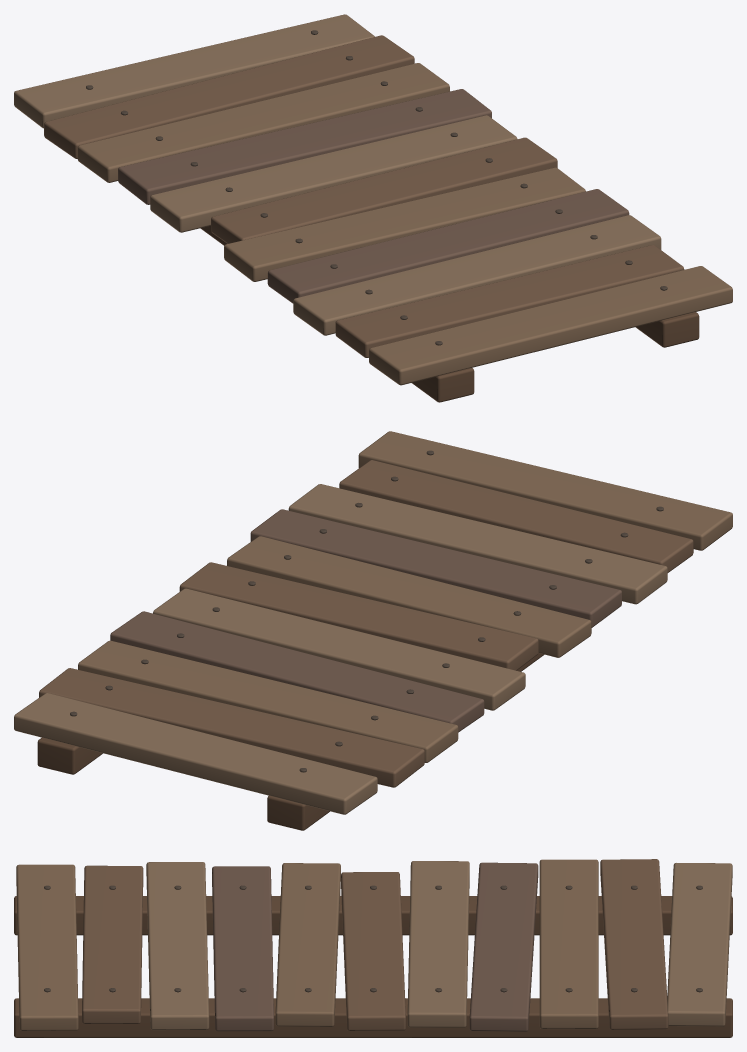
The model's file is TrenchDuckboard.fbx.
3 renders of one model, top to bottom at view 1: azimuth 30°, elevation 25°; view 2: azimuth 150°, elevation 25°; view 3: azimuth 270°, elevation 25°, orthographic. The views are drawn at different scales.
Visible parts, largest first — view 1: TrenchDuckboard; view 2: TrenchDuckboard; view 3: TrenchDuckboard.
Part boxes in pixels (x1,y1,x2,y2): TrenchDuckboard: (14,14,732,402); TrenchDuckboard: (14,431,732,830); TrenchDuckboard: (14,859,732,1037).
Size of the model in its own units: 0.9021 by 0.1095 by 1.72.
